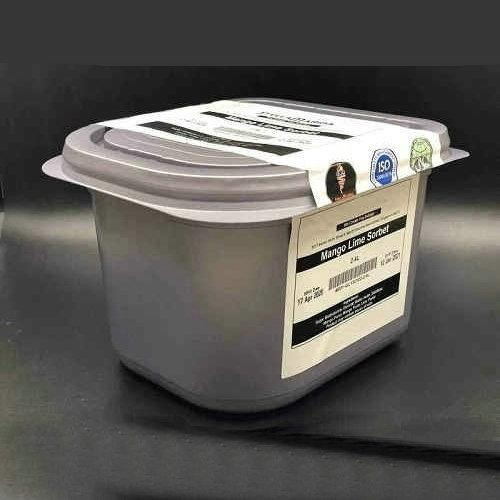plastic: (35, 95, 465, 416)
